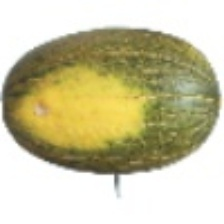honeydew: (49, 14, 199, 177)
